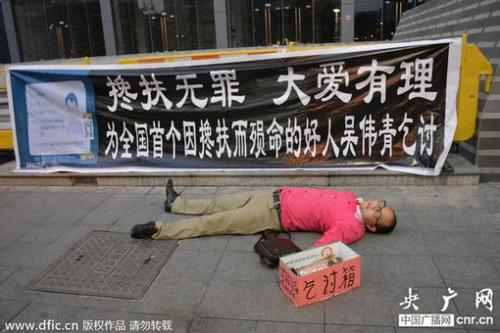fall: (136, 173, 399, 255)
